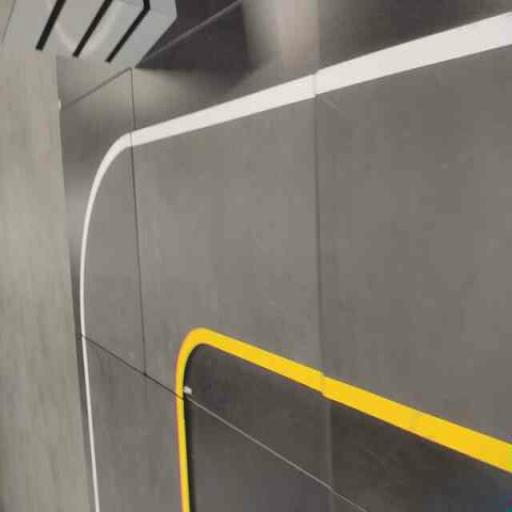left: (54, 96, 243, 402)
